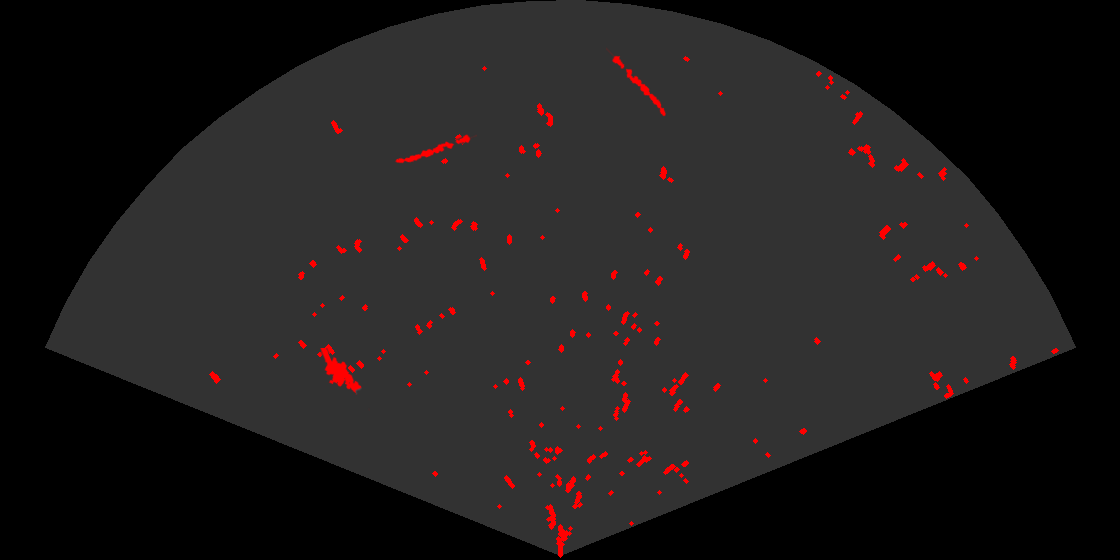chain: (606, 46, 668, 118), (393, 133, 477, 165)
frogman: (319, 348, 370, 411)
